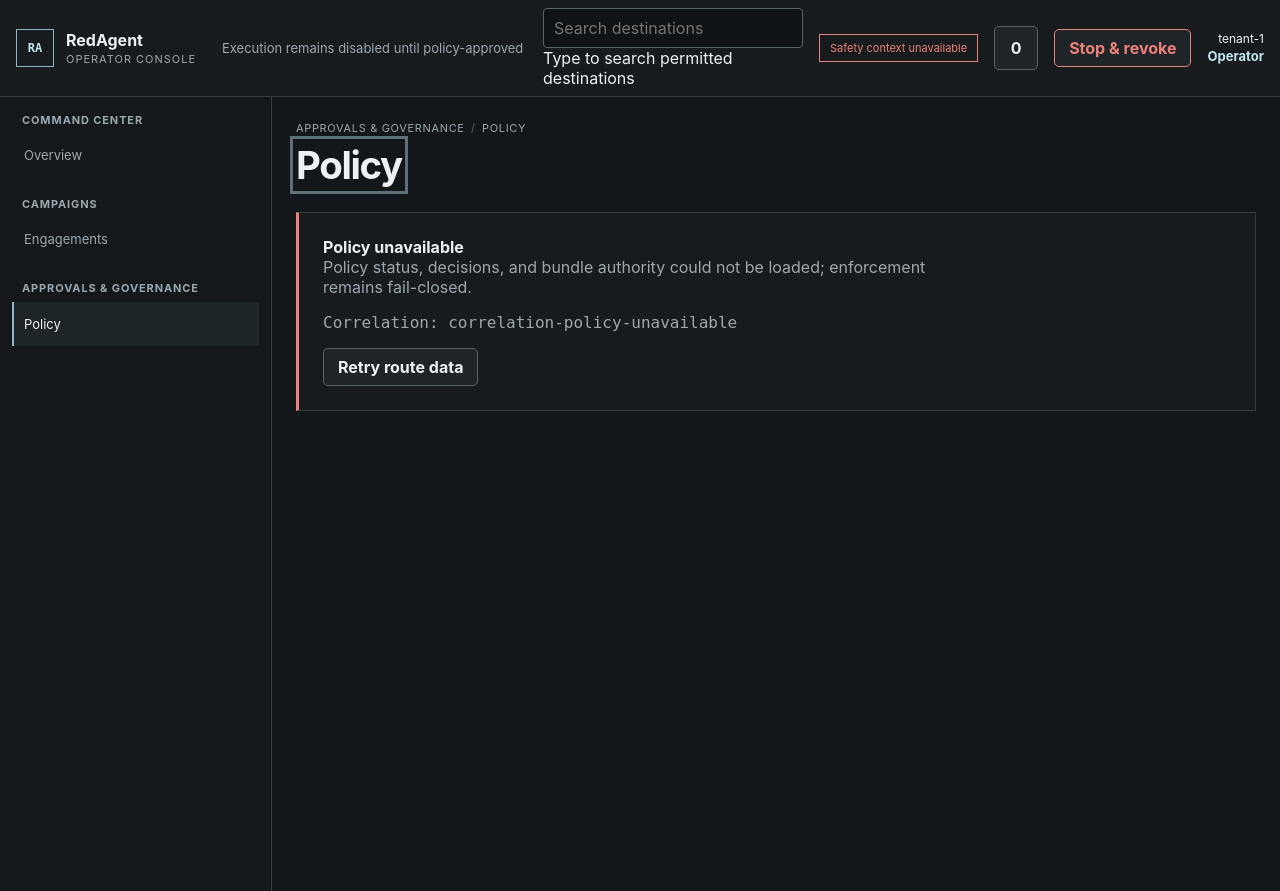
Scenario: policy console › renders policy-unavailable failure with correlation and retry
Check: the message "Policy unavailable" is shown, box [296, 212, 1256, 411]
Check: the text "Correlation: correlation-policy-unavailable" is shown, box [323, 313, 737, 332]
Click the button "Retry route data".
click(401, 367)  # box [323, 348, 478, 386]
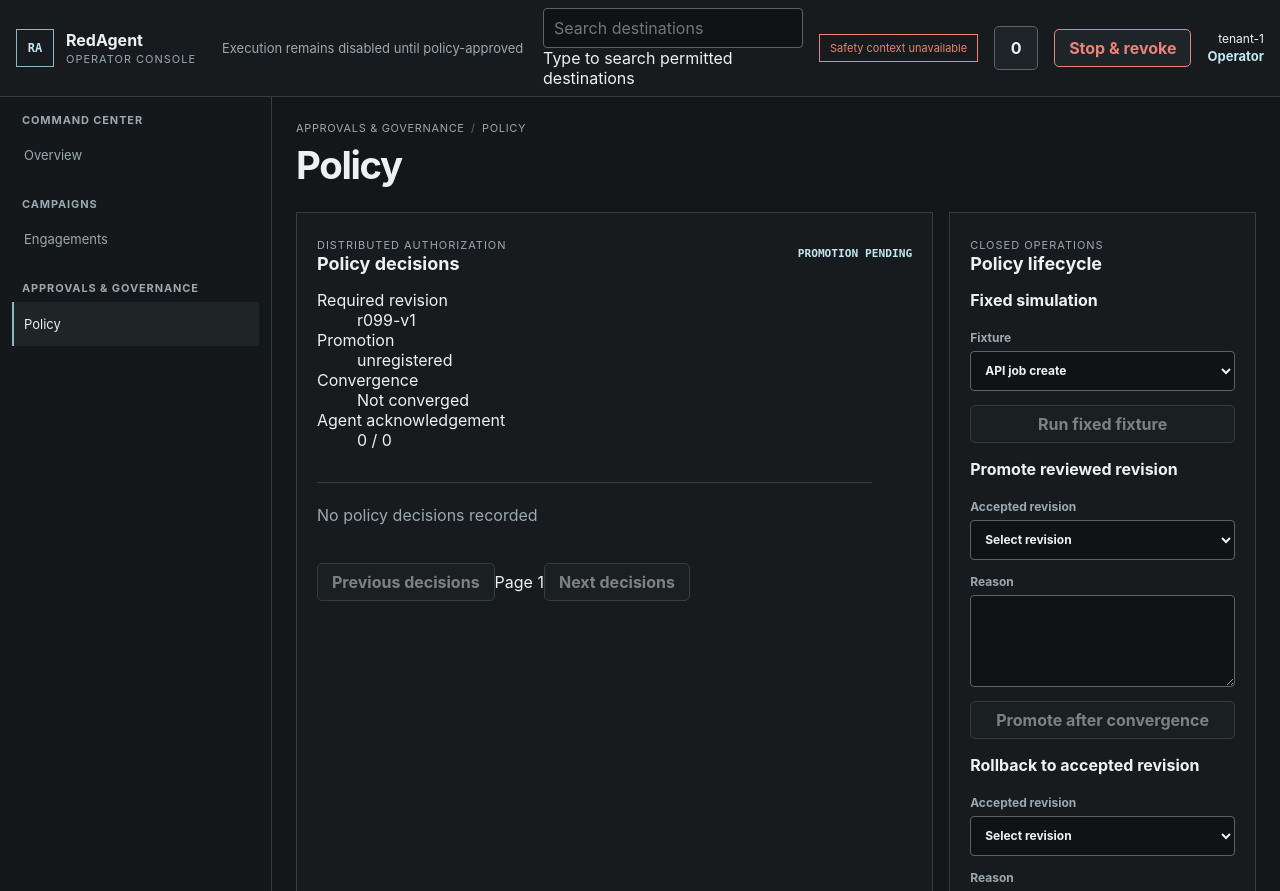
Check: the text "No policy decisions recorded" is shown, box [317, 482, 872, 547]
